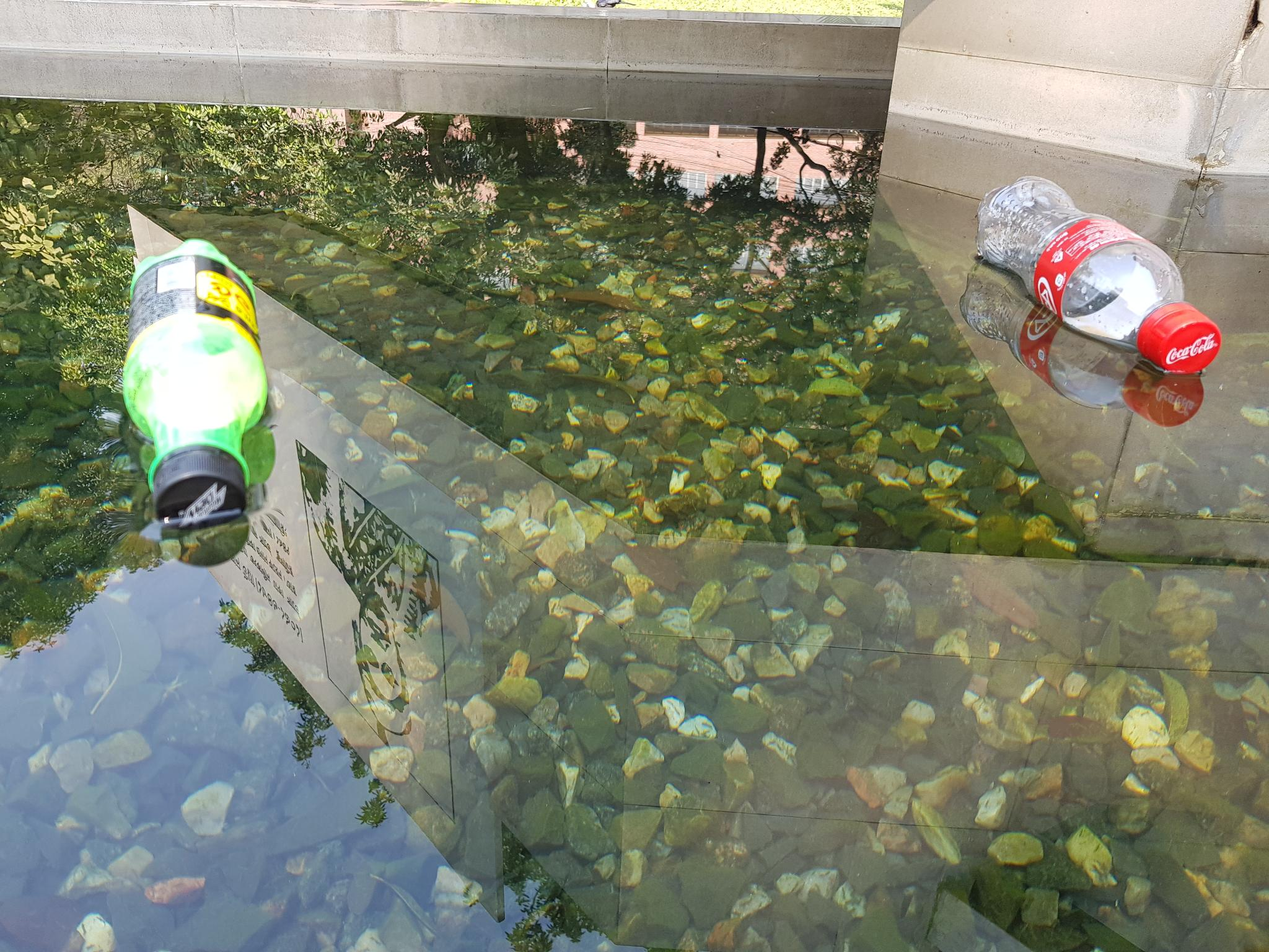trash_plastic: (979, 178, 1224, 373), (122, 236, 266, 530)
